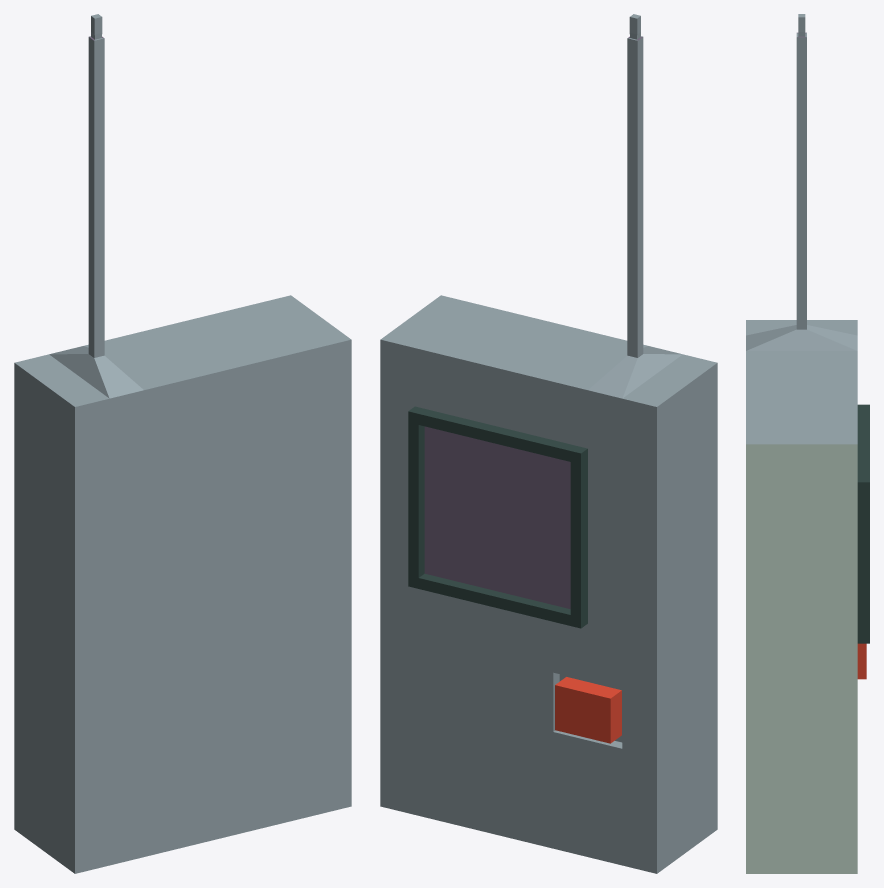
The model's file is gizmo.glb.
3 renders of one model, left to right at view 1: azimuth 30°, elevation 25°; view 2: azimuth 150°, elevation 25°; view 3: azimuth 270°, elevation 25°, orthographic. The views are drawn at different scales.
Visible parts, largest first — view 1: Cube; view 2: Cube; view 3: Cube.
Boxes of the visible parts, x1,y1,x2,y2 form: Cube: (14,14,351,873); Cube: (380,14,717,873); Cube: (746,14,869,873).
Bounding box in the file's own units: 0.111 × 0.3156 × 0.0468.
Materials: 1 (1 with a texture image).
